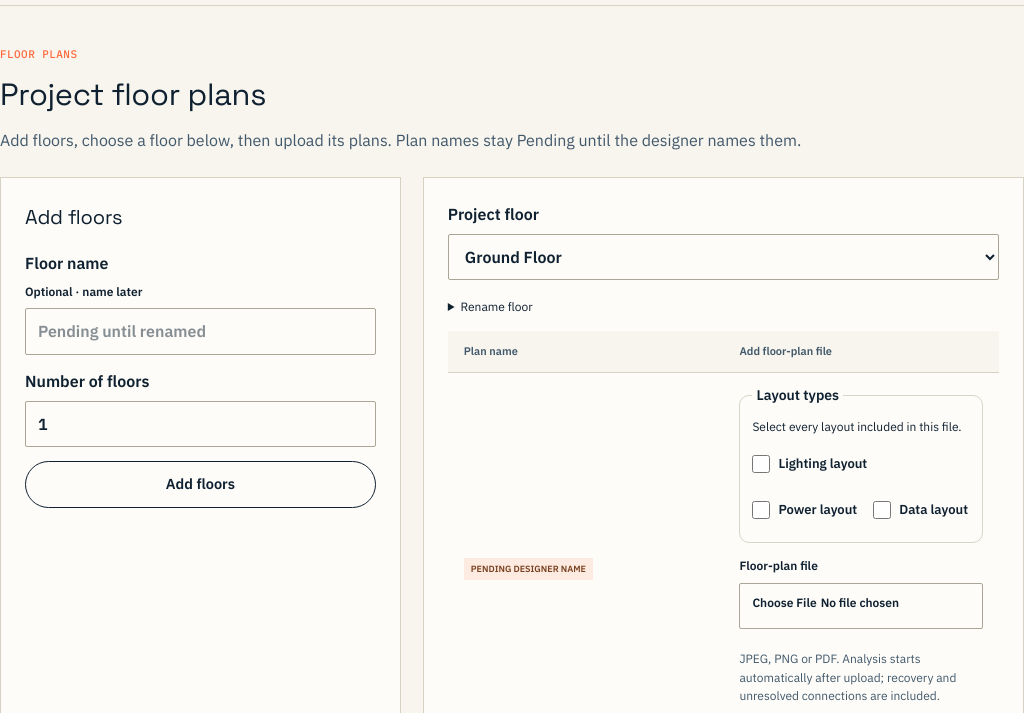
Scenario: project floor upload panel › hides old floor cards immediately and ignores a late superseded floor response
Select "Second Floor" in the dropdown labelled "Project floor" at (723, 257), box [448, 234, 999, 280]
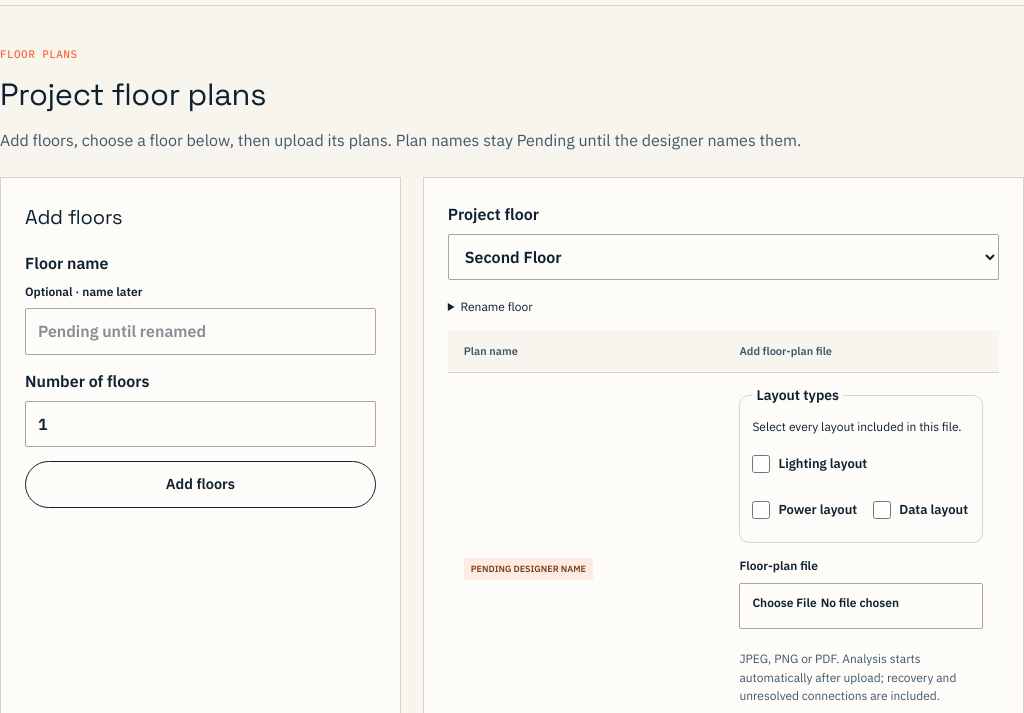
Expected: the text "house-plan.png" is not shown
Select "Ground Floor" in the dropdown labelled "Project floor" at (723, 257), box [448, 234, 999, 280]
(page scrolled)
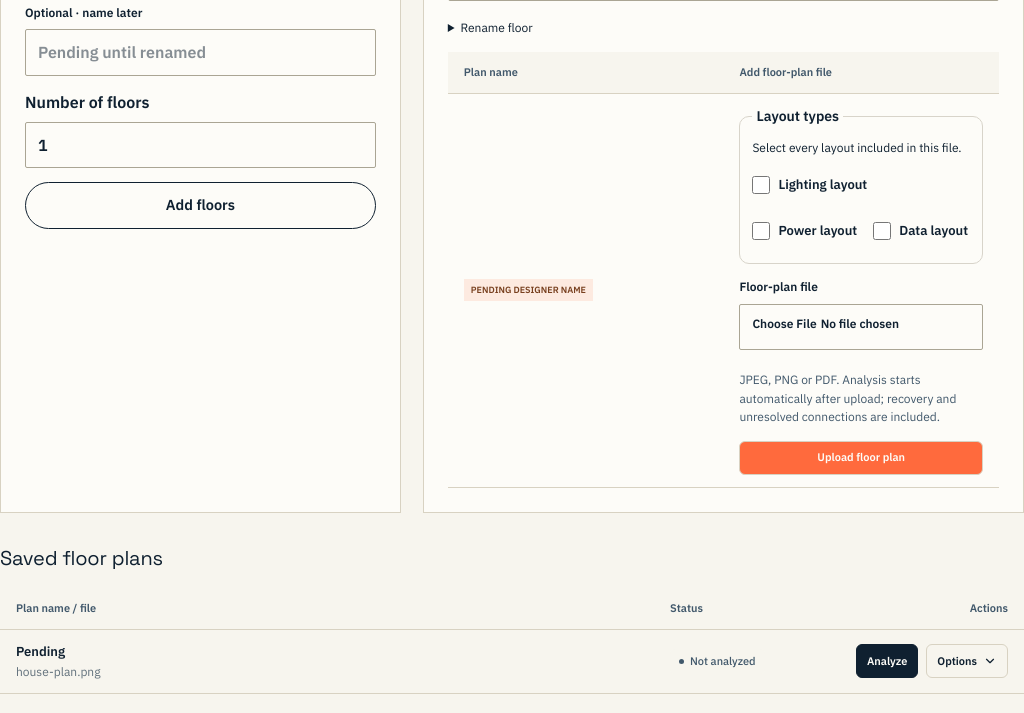
Now the text "house-plan.png" is shown, box [16, 664, 100, 679]
